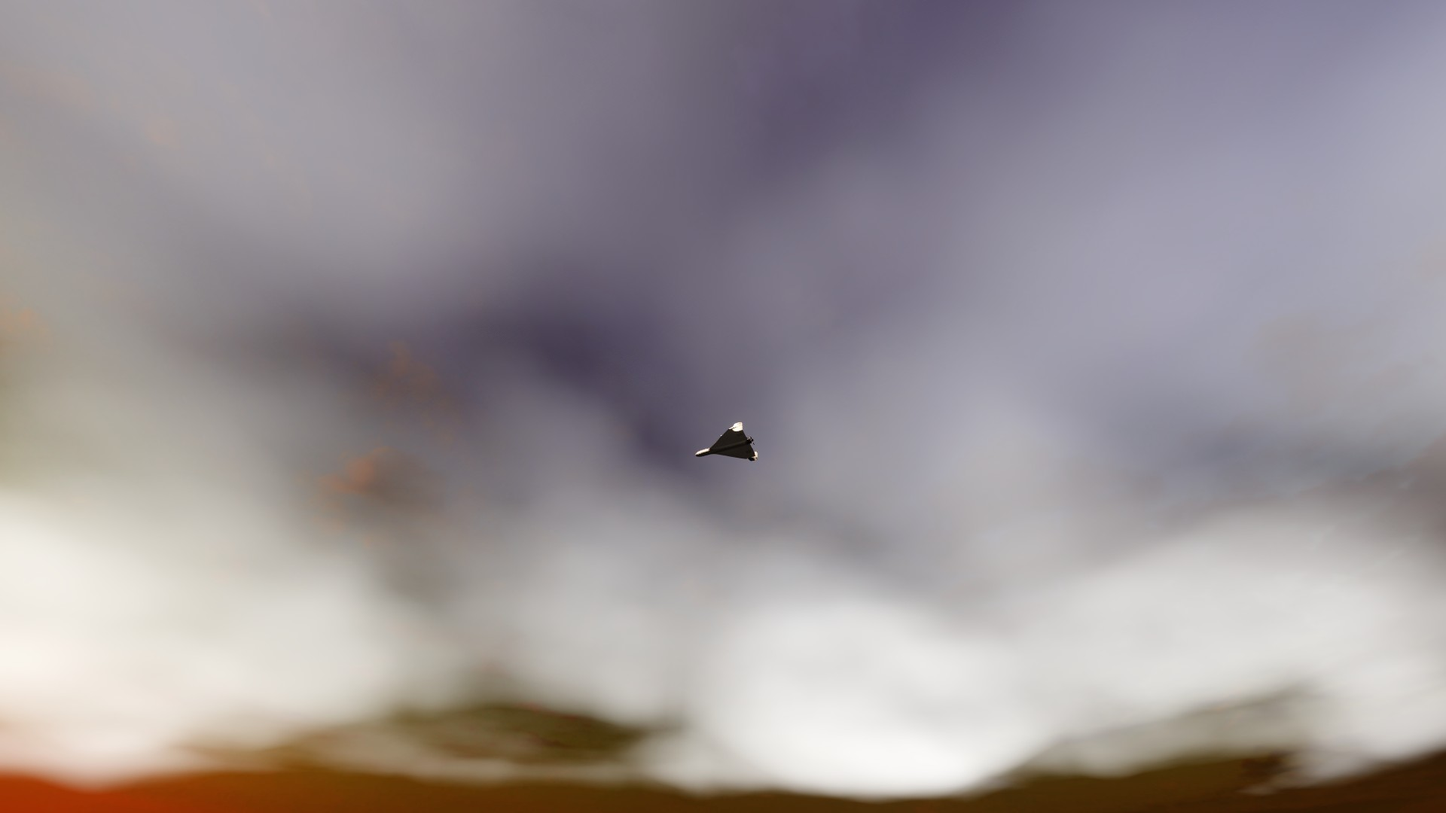shahed: (695, 422, 758, 461)
